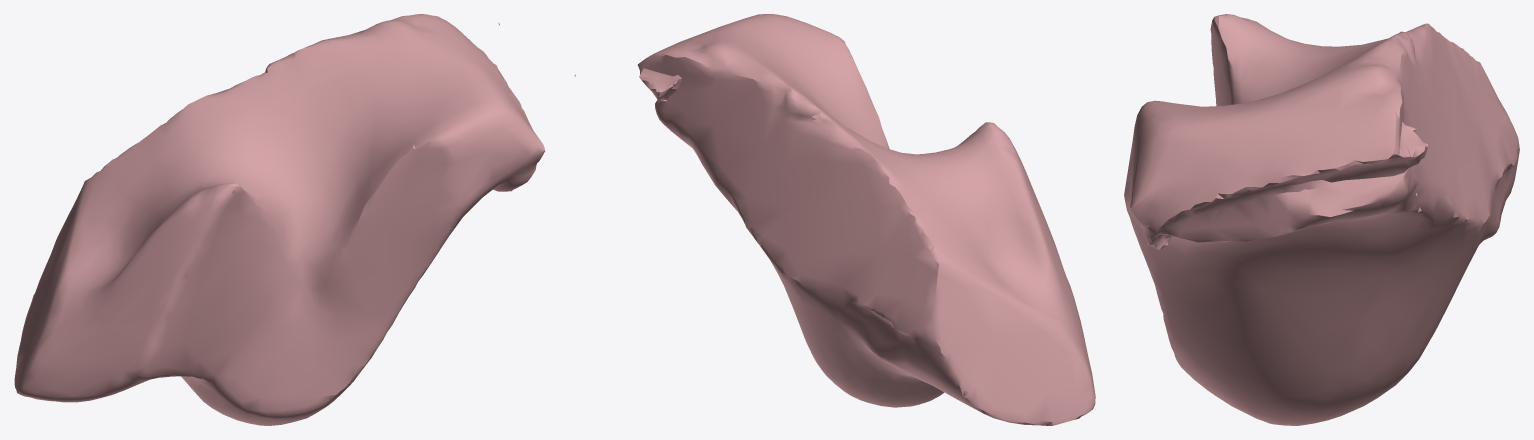
File: fma74886-r_mm3292m.glb
The picture shows the model from 3 angles, left to right: view 1: azimuth 30°, elevation 25°; view 2: azimuth 150°, elevation 25°; view 3: azimuth 270°, elevation 25°; orthographic projection. The views are drawn at different scales.
Parts seen in each view (by area): view 1: FMA74886-R_MM3292M; view 2: FMA74886-R_MM3292M; view 3: FMA74886-R_MM3292M.
Boxes of the visible parts, x1,y1,x2,y2 form: FMA74886-R_MM3292M: (14,14,545,425); FMA74886-R_MM3292M: (574,14,1095,425); FMA74886-R_MM3292M: (1124,14,1519,425).
Bounding box in the file's own units: 0.0269 × 0.0173 × 0.014.
